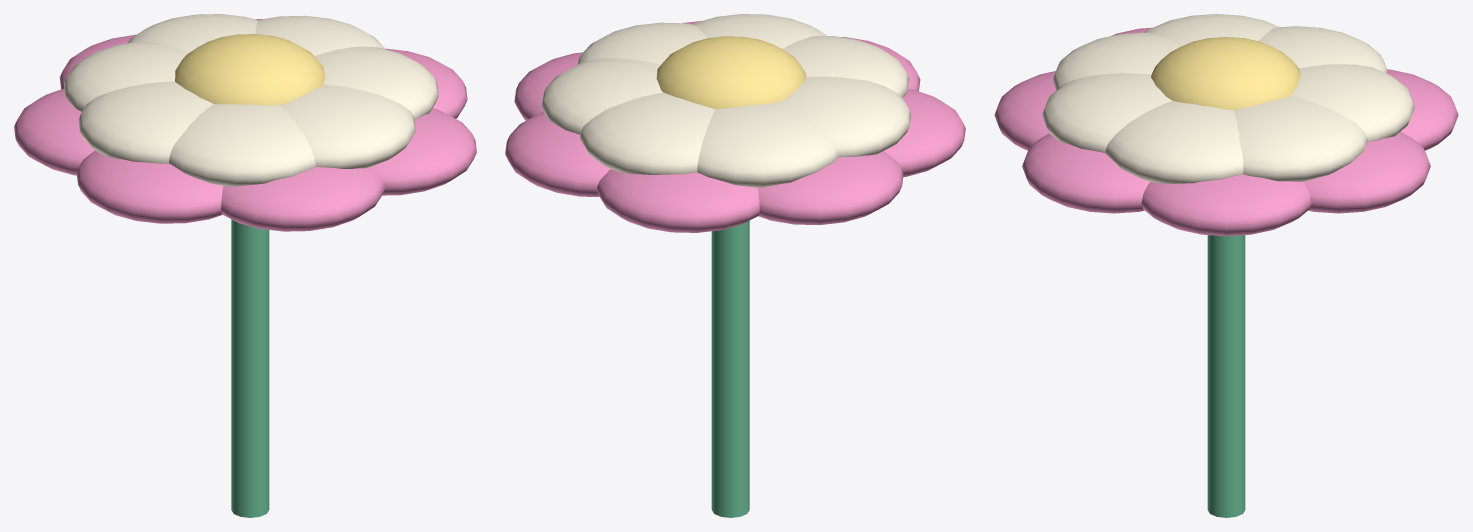
Rendered from st_rain_flower.glb.
3 renders of one model, left to right at view 1: azimuth 30°, elevation 25°; view 2: azimuth 150°, elevation 25°; view 3: azimuth 270°, elevation 25°, orthographic.
Parts seen in each view (by area): view 1: Giant_Layered_Flower; view 2: Giant_Layered_Flower; view 3: Giant_Layered_Flower.
Boxes of the visible parts, x1,y1,x2,y2 form: Giant_Layered_Flower: [14, 14, 476, 517]; Giant_Layered_Flower: [505, 14, 965, 517]; Giant_Layered_Flower: [994, 14, 1458, 517].
Size of the model in its own units: 1.74 by 1.94 by 1.76.
